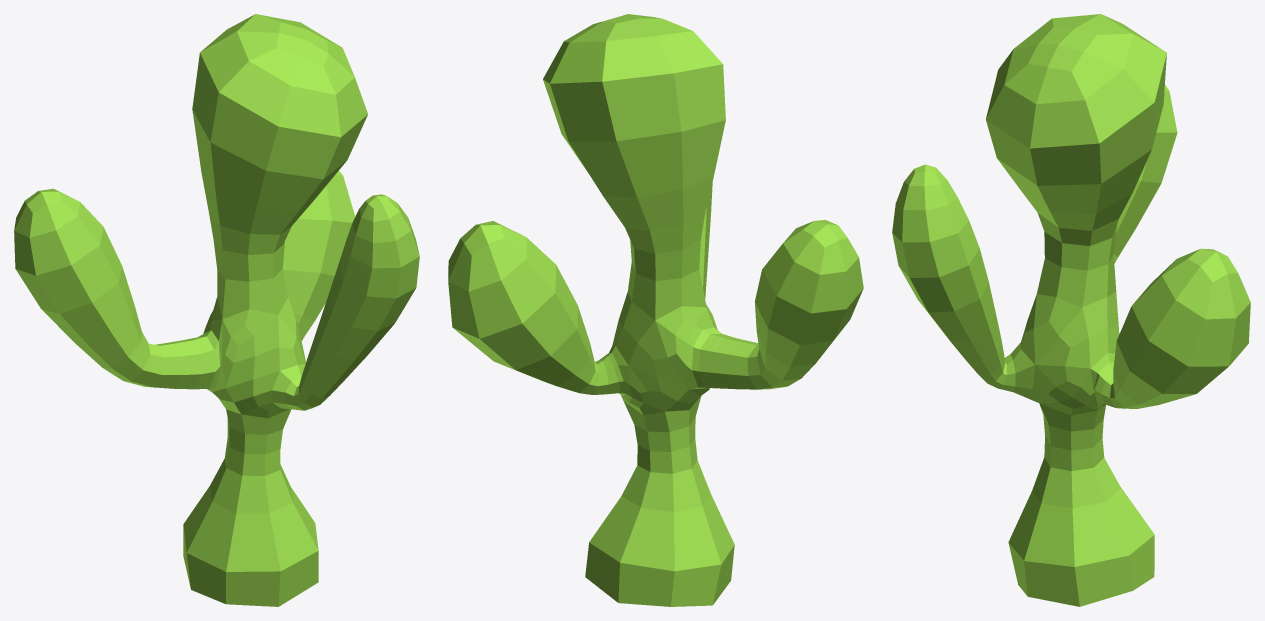
Rendered from cactus.gltf.
3 renders of one model, left to right at view 1: azimuth 30°, elevation 25°; view 2: azimuth 150°, elevation 25°; view 3: azimuth 270°, elevation 25°, orthographic. The views are drawn at different scales.
Parts seen in each view (by area): view 1: Vert.009; view 2: Vert.009; view 3: Vert.009.
Part boxes in pixels (left/top/right/bottom): Vert.009: left=14, top=14, right=419, bottom=606; Vert.009: left=448, top=14, right=863, bottom=606; Vert.009: left=892, top=14, right=1250, bottom=606.
Bounding box in the file's own units: 1.62 × 2.4 × 1.35.
